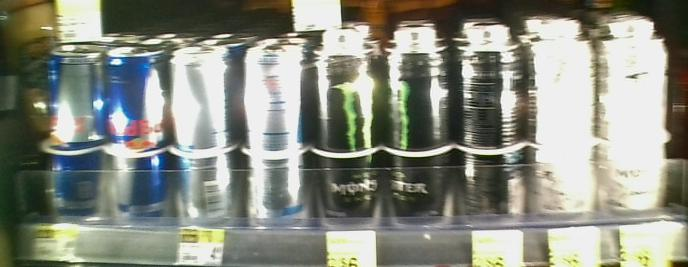bottle: (602, 12, 670, 234), (533, 13, 598, 243), (312, 17, 382, 227), (460, 18, 525, 243), (388, 28, 454, 246), (168, 44, 239, 241), (243, 41, 308, 245), (48, 41, 105, 234), (109, 45, 164, 242)
